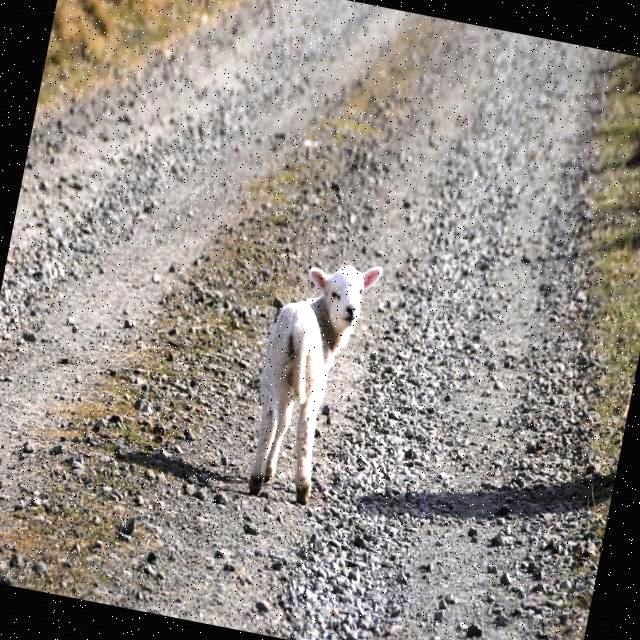sheep: (248, 263, 378, 498)
